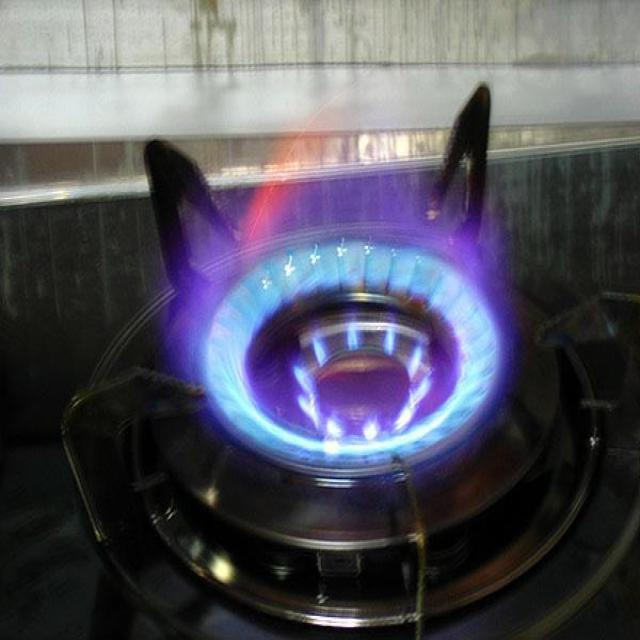fire: (147, 124, 539, 484)
